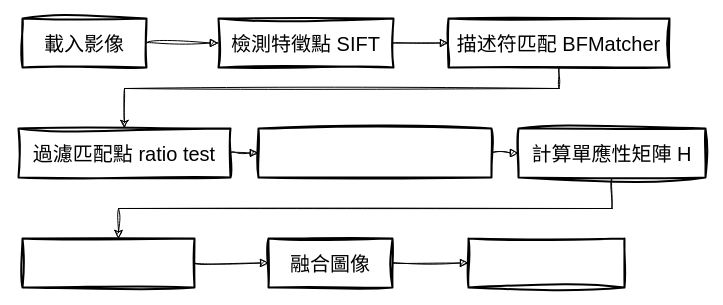
Some shapes in this 723 by 305 pixel diagram are drawn without their labels. Each missing label, with the box of its shape:
輸出拼接結果: (467, 237, 625, 288)
透視變換與平移: (21, 237, 195, 288)
隨機採樣一致性 RANSAC: (257, 127, 492, 178)
